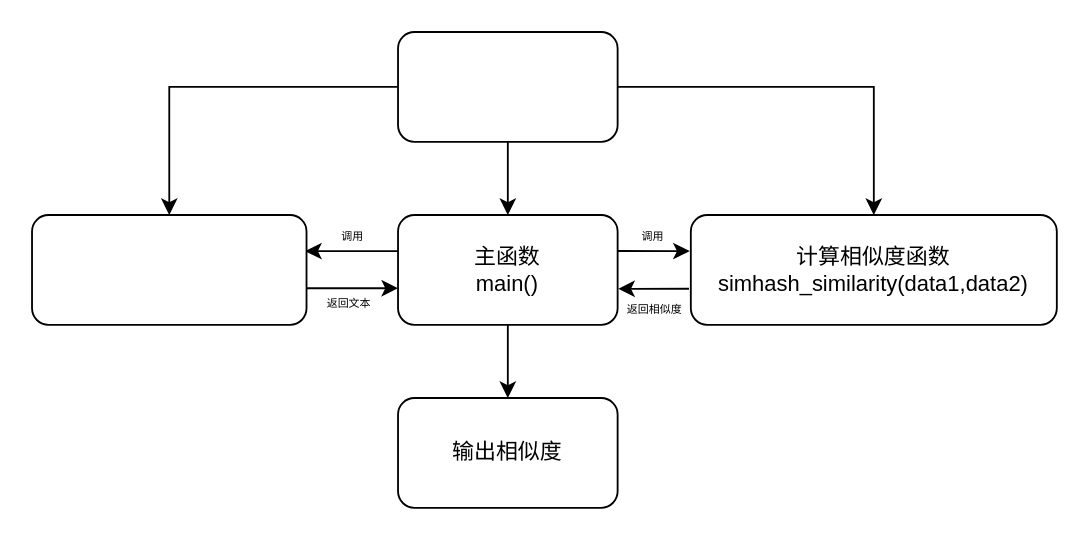
Image size: 1089x540. Some labels were removed from this diagram. The shapes that lost their labels are listed below. From the top down, each one's centre as x and y in pixels, then its label:
At point 507,86: "论文查重程序".
At point 168,269: "去除标点符号函数 remove_punctuation(data)".
